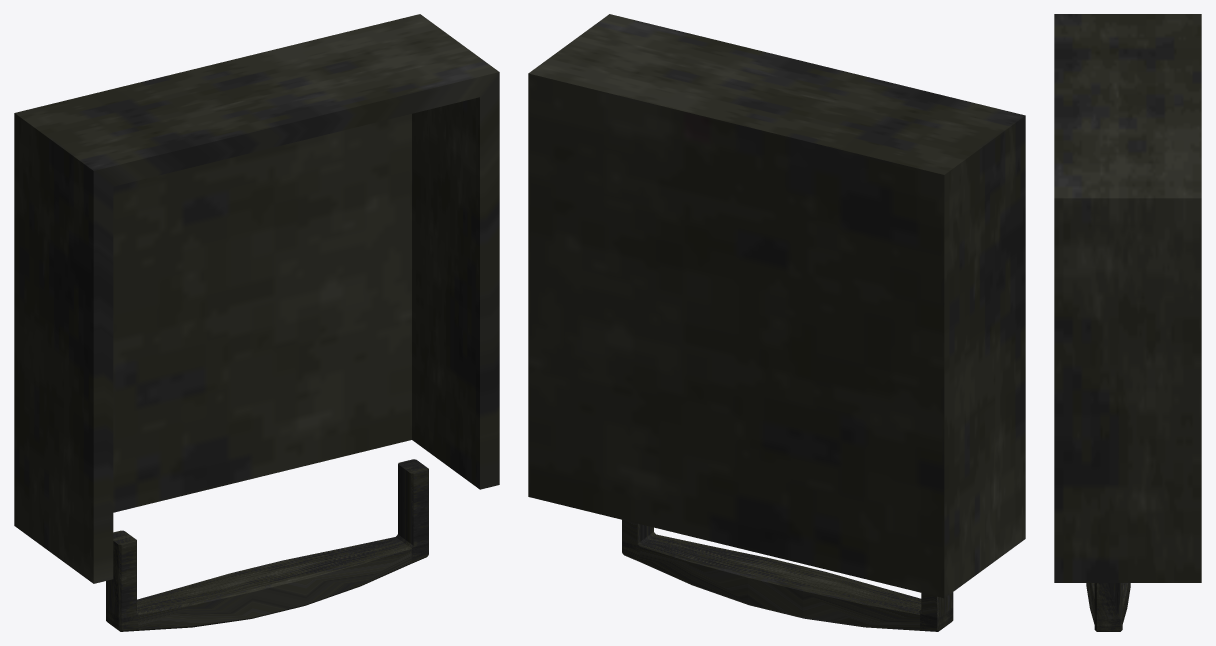
3 views of the same model, side by side, from view 1: azimuth 30°, elevation 25°; view 2: azimuth 150°, elevation 25°; view 3: azimuth 270°, elevation 25° (orthographic). The views are drawn at different scales.
Parts seen in each view (by area): view 1: Metal___Stainless_steel.002; view 2: Metal___Stainless_steel.002; view 3: Metal___Stainless_steel.002.
Boxes of the visible parts, x1,y1,x2,y2 form: Metal___Stainless_steel.002: (14, 14, 499, 631); Metal___Stainless_steel.002: (528, 14, 1025, 631); Metal___Stainless_steel.002: (1054, 14, 1201, 631).
Bounding box in the file's own units: 0.3957 × 0.4701 × 0.1339.
1 material, 1 textured.
